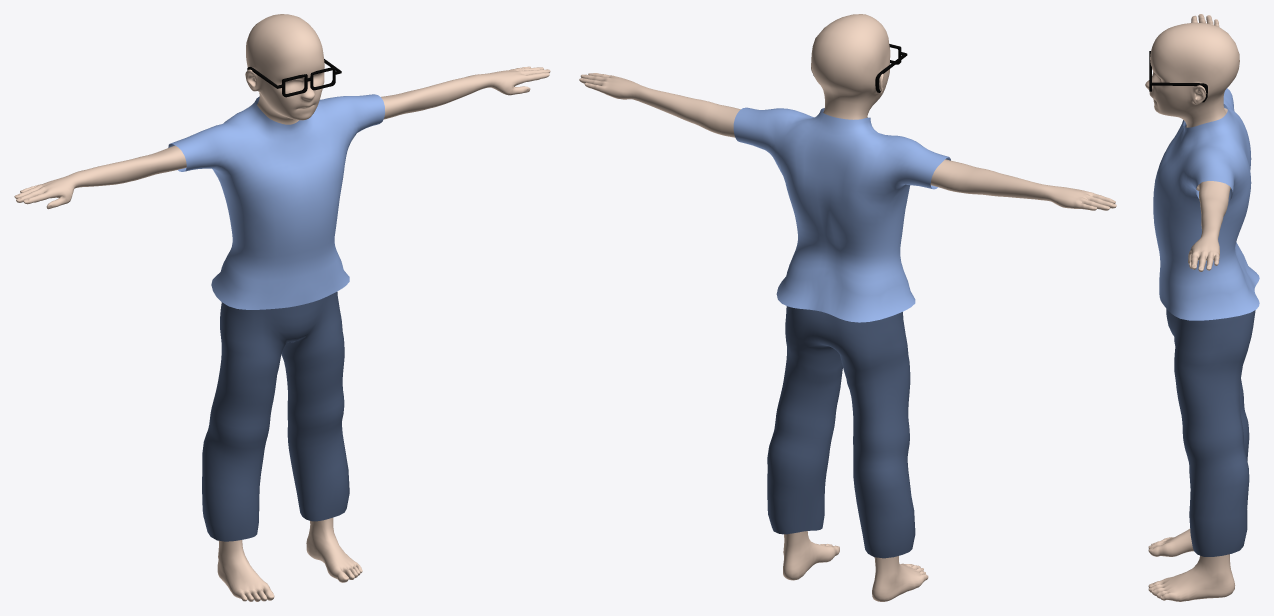
The model's file is BoyClothed.fbx.
3 views of the same model, side by side, from view 1: azimuth 30°, elevation 25°; view 2: azimuth 150°, elevation 25°; view 3: azimuth 270°, elevation 25° (orthographic). The views are drawn at different scales.
Visible parts, largest first — view 1: Boy; view 2: Boy; view 3: Boy.
Part boxes in pixels (x1,y1,x2,y2): Boy: (14,14,550,601); Boy: (579,14,1116,601); Boy: (1145,14,1259,601).
Bounding box in the file's own units: 140 × 140 × 26.44.
